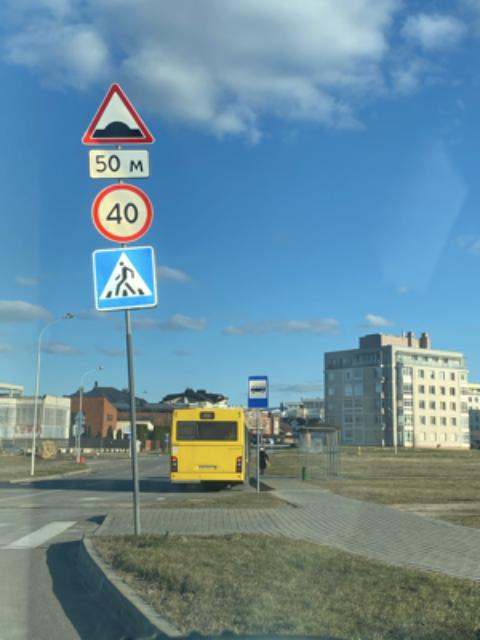crosswalk-sign: (91, 247, 158, 312)
